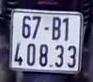0: (25, 42, 37, 67)
1: (62, 16, 72, 41)
3: (67, 43, 78, 69), (55, 42, 64, 68)
4: (13, 40, 24, 67)
6: (20, 14, 33, 41)
7: (32, 14, 43, 41)
8: (38, 43, 49, 68)
B: (51, 13, 62, 41)
